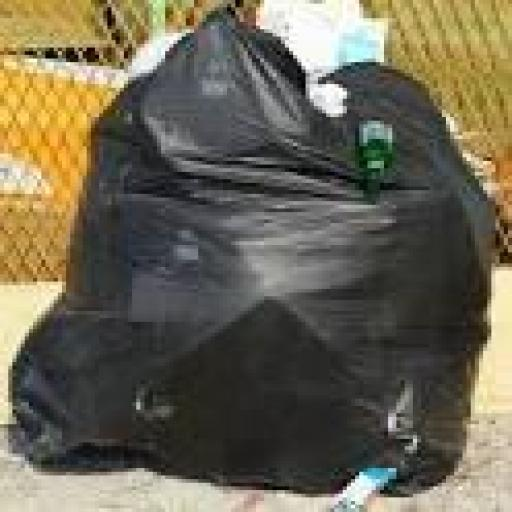poubelle_pleine: (90, 14, 479, 504)
